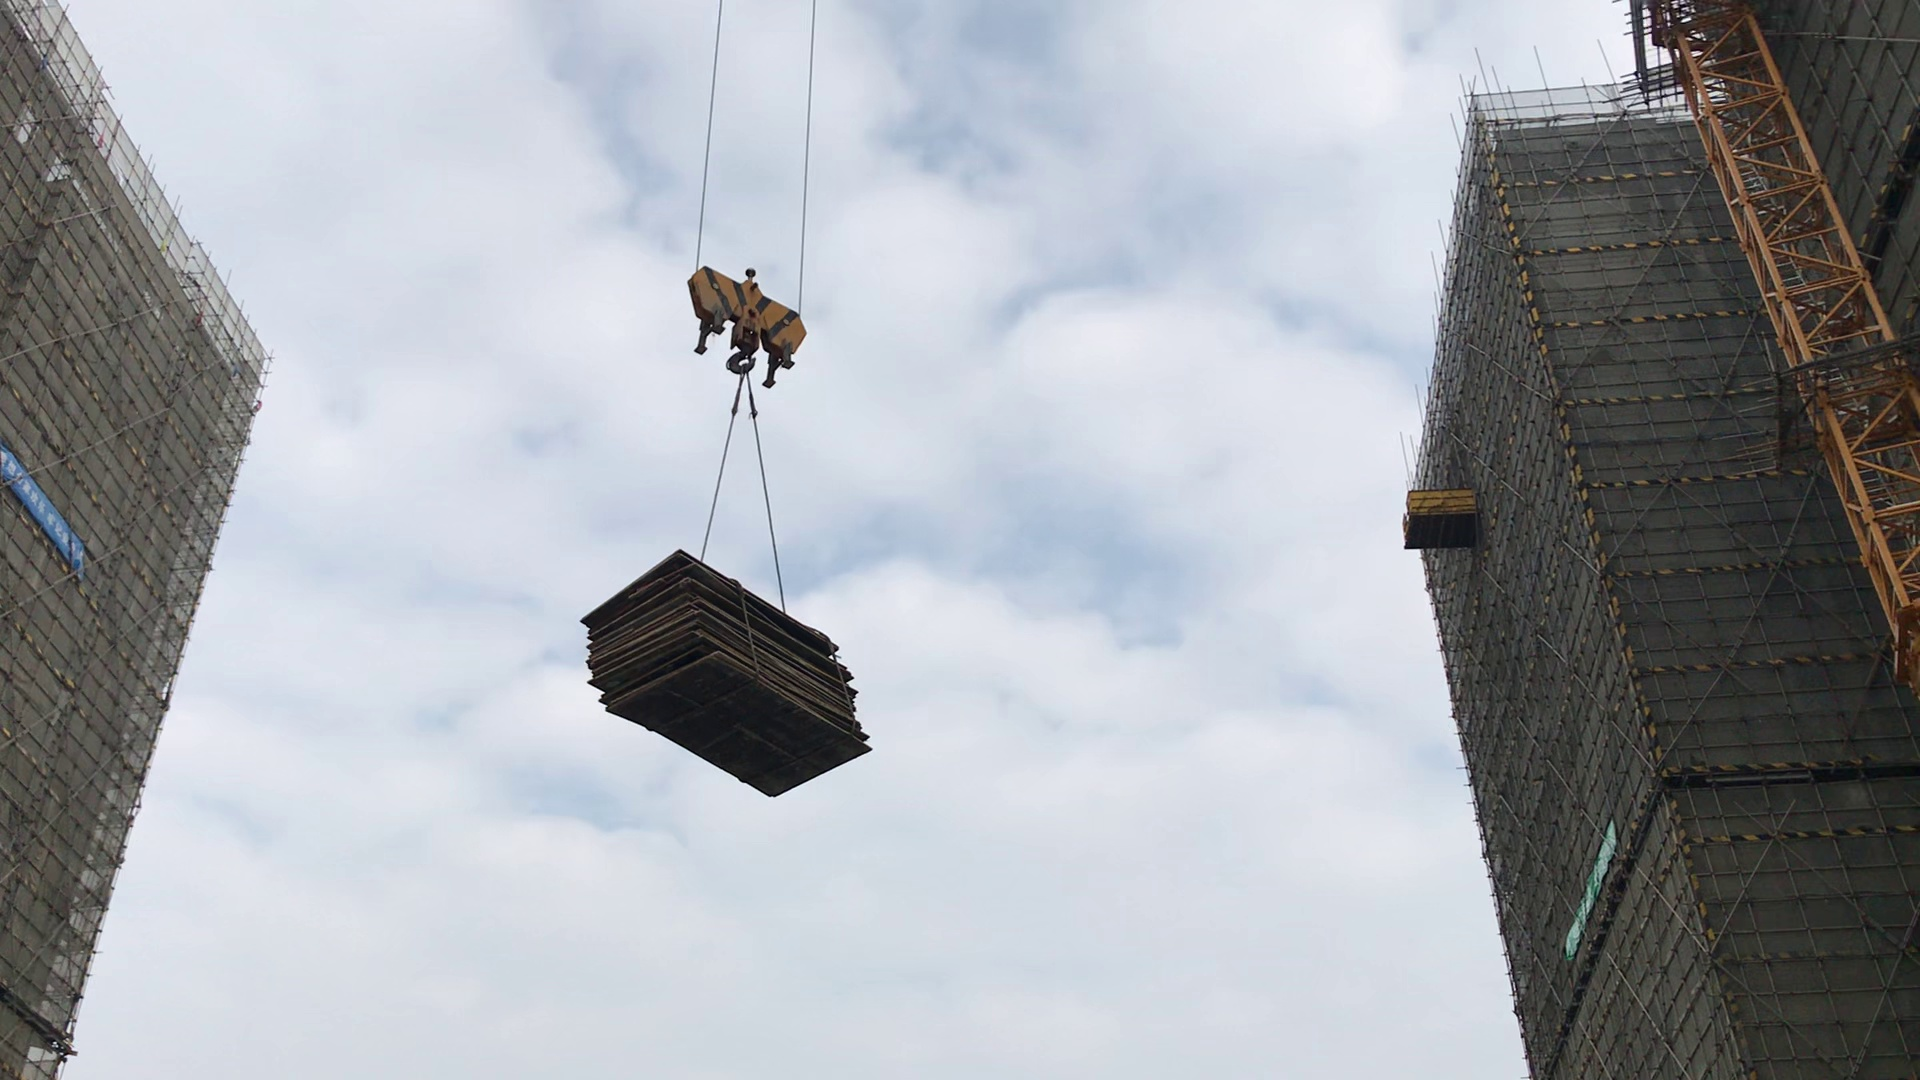board: (568, 543, 880, 793)
hook: (674, 243, 822, 394)
slogan: (7, 448, 96, 585), (1553, 822, 1629, 969)
